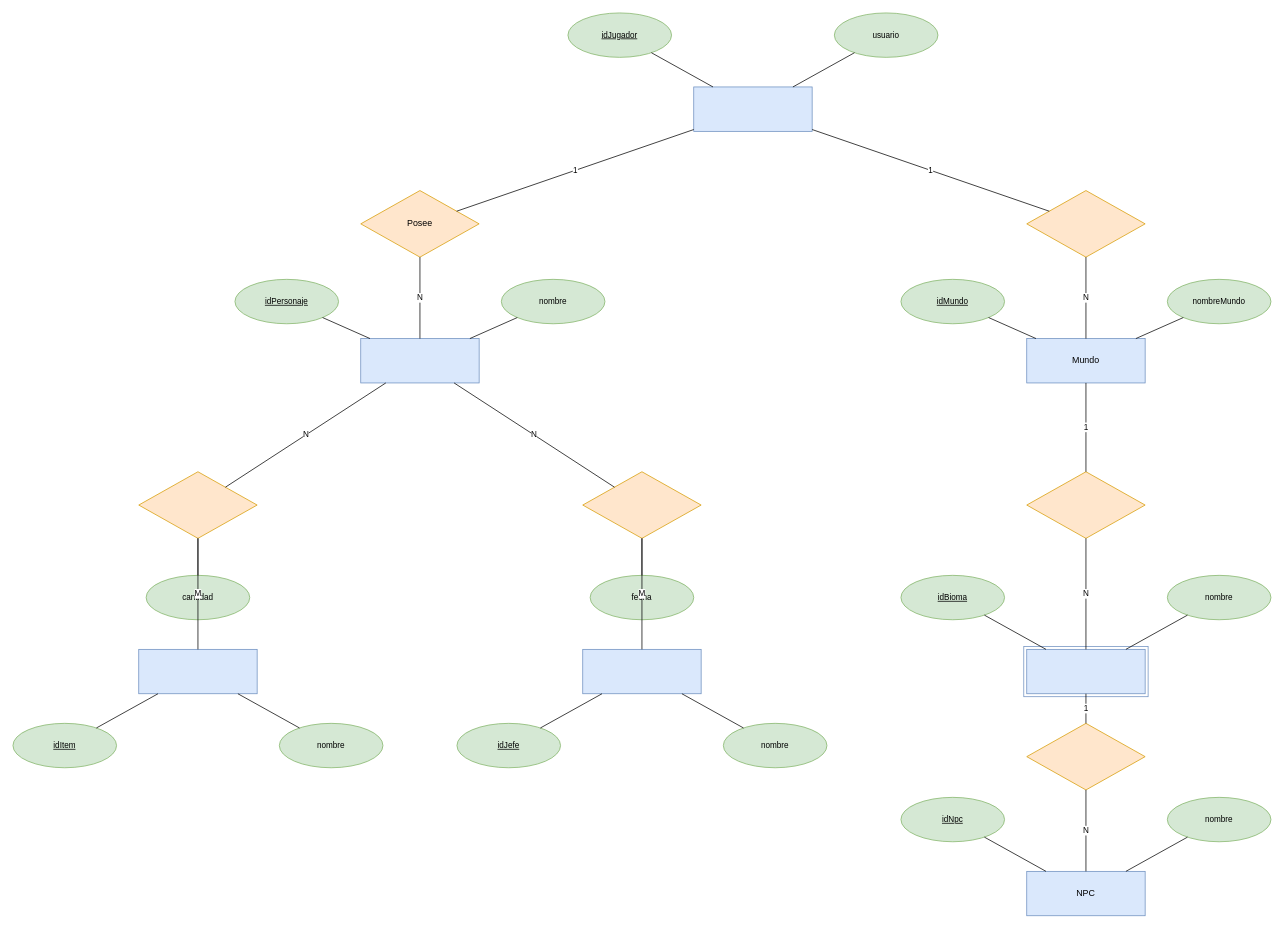
Some shapes in this 1284 by 929 pixel diagram are drawn without their labels. Here are the shapes that lost their labels. From the top down, the centre of each, then its label:
[752,108]: Jugador
[1085,223]: Crea
[419,360]: Personaje
[197,504]: Recolecta
[641,504]: Derrota
[1085,504]: Contiene
[197,671]: Item
[641,671]: Jefe
[1085,671]: Bioma
[1085,756]: Habita
